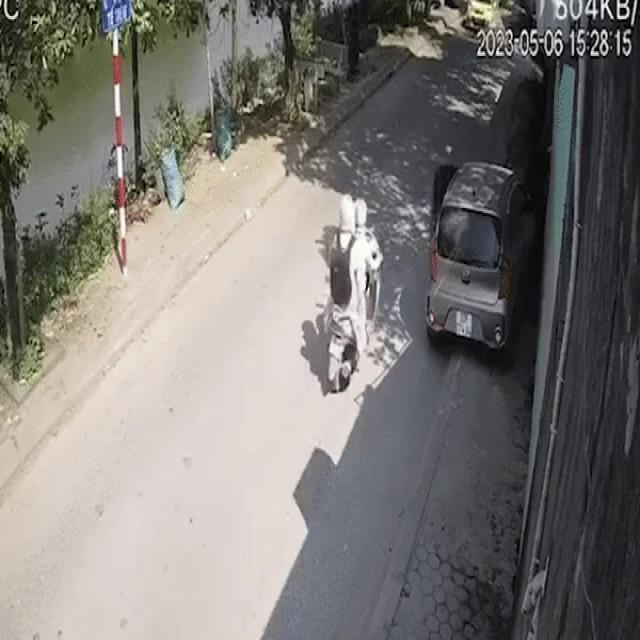normal: (301, 179, 396, 409)
